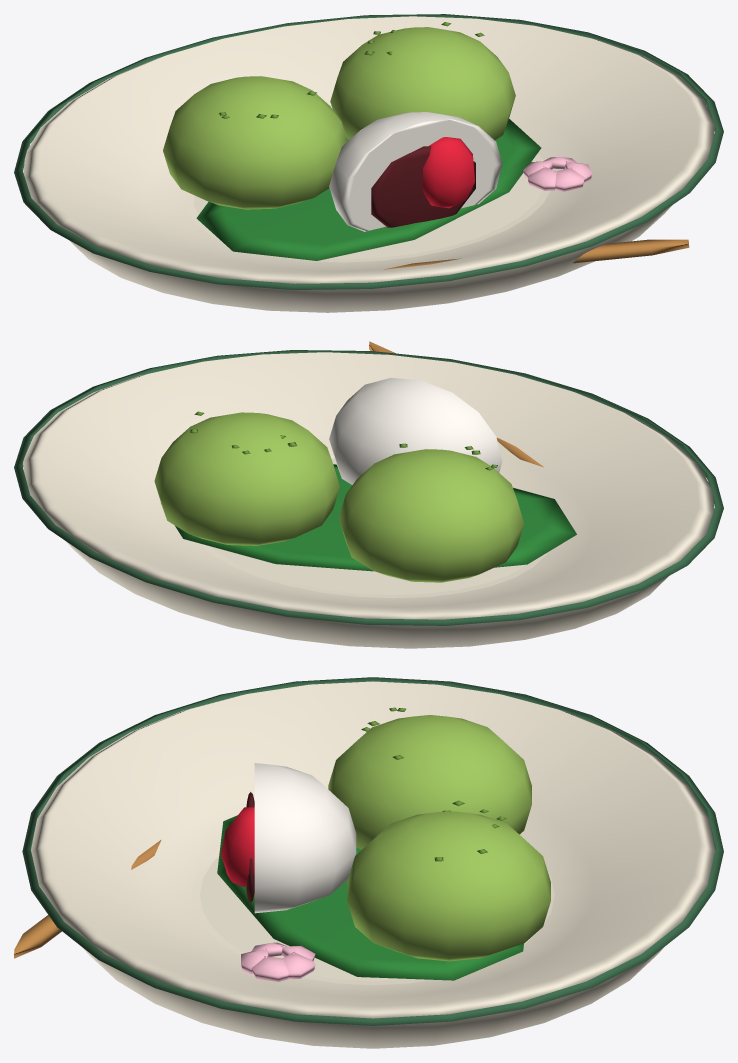
3 renders of one model, top to bottom at view 1: azimuth 30°, elevation 25°; view 2: azimuth 150°, elevation 25°; view 3: azimuth 270°, elevation 25°, orthographic. The views are drawn at different scales.
Parts seen in each view (by area): view 1: plate, mochi, leaf, band, mochi_cut, plate_well, red_bean, strawberry_core, sakura, pick; view 2: plate, mochi, mochi_cut, band, leaf, plate_well; view 3: plate, mochi, mochi_cut, band, leaf, plate_well, sakura, strawberry_core, pick.
Boxes of the visible parts, <box> form: plate: <box>23,16,714,312</box>; mochi: <box>163,27,515,209</box>; leaf: <box>196,118,541,260</box>; band: <box>14,14,723,289</box>; mochi_cut: <box>329,112,502,231</box>; plate_well: <box>194,159,542,259</box>; red_bean: <box>371,146,475,227</box>; strawberry_core: <box>422,137,474,208</box>; sakura: <box>523,156,592,191</box>; pick: <box>384,239,689,269</box>; plate: <box>23,352,714,648</box>; mochi: <box>154,412,524,582</box>; mochi_cut: <box>329,377,502,484</box>; band: <box>14,350,723,625</box>; leaf: <box>175,464,576,571</box>; plate_well: <box>211,458,526,594</box>; plate: <box>31,681,715,1048</box>; mochi: <box>328,715,550,961</box>; mochi_cut: <box>254,763,356,913</box>; band: <box>22,677,723,1025</box>; leaf: <box>217,815,523,980</box>; plate_well: <box>200,857,409,981</box>; sakura: <box>241,942,315,981</box>; strawberry_core: <box>221,806,254,886</box>; pick: <box>14,839,161,958</box>.
Size of the model in its own units: 0.174 by 0.0361 by 0.1497.
